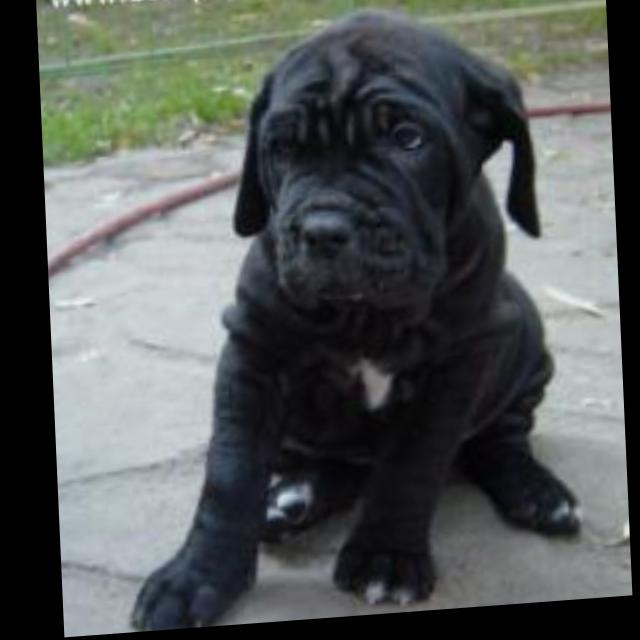bullmastiff: (102, 1, 582, 635)
